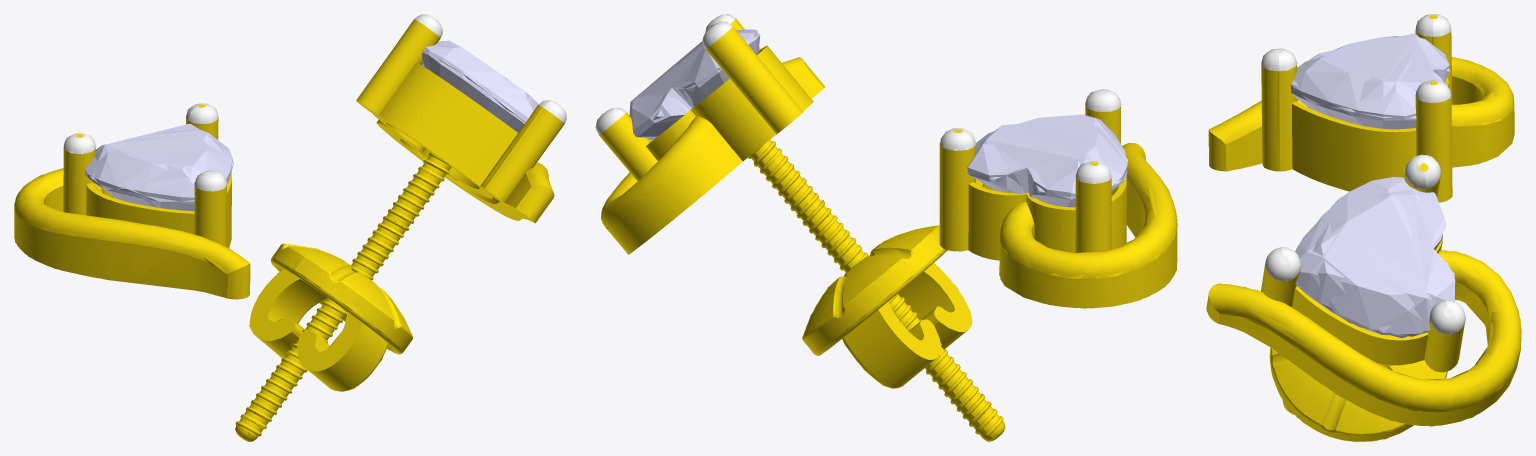
3 renders of one model, left to right at view 1: azimuth 30°, elevation 25°; view 2: azimuth 150°, elevation 25°; view 3: azimuth 270°, elevation 25°, orthographic. The views are drawn at different scales.
Parts seen in each view (by area): view 1: highPolyMesh, lowPolyMesh; view 2: highPolyMesh, lowPolyMesh; view 3: highPolyMesh, lowPolyMesh.
Part boxes in pixels (x1=…): highPolyMesh: x1=14, y1=14, x2=566, y2=441; lowPolyMesh: x1=14, y1=14, x2=566, y2=441; highPolyMesh: x1=596, y1=14, x2=1177, y2=441; lowPolyMesh: x1=595, y1=14, x2=1177, y2=441; highPolyMesh: x1=1206, y1=14, x2=1521, y2=441; lowPolyMesh: x1=1206, y1=14, x2=1520, y2=441.
Size of the model in its own units: 0.0142 by 0.00953 by 0.00704.
